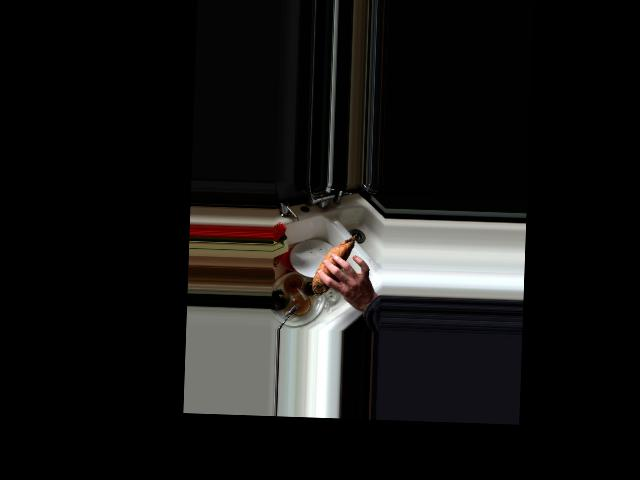sweet_potato: (311, 232, 358, 295)
